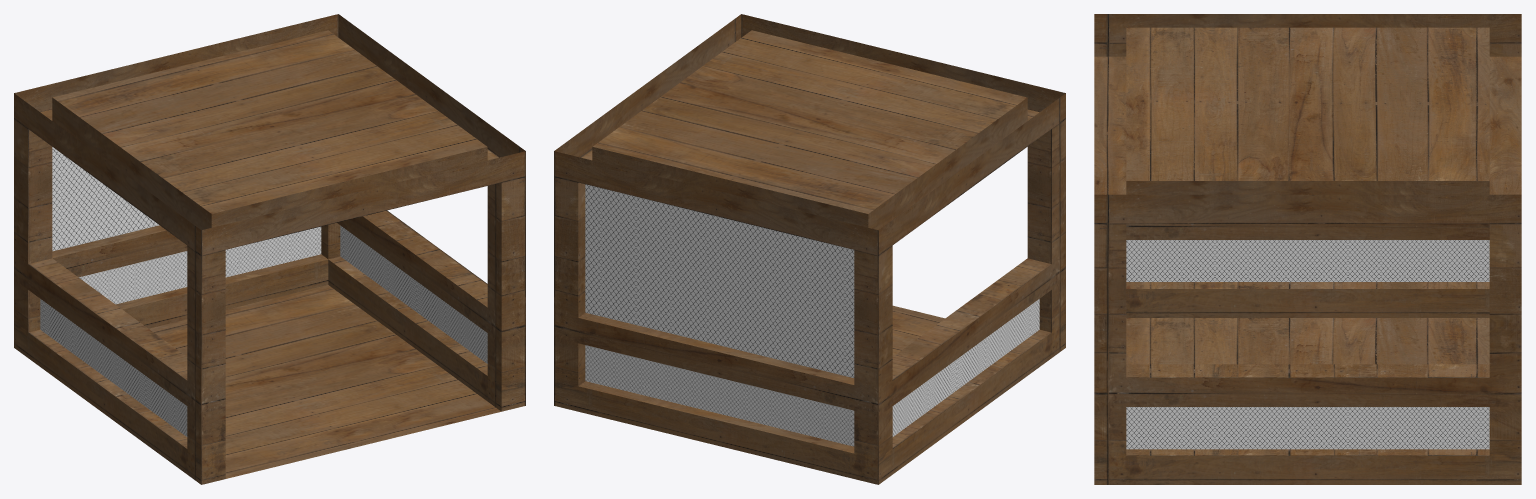
File: lift.fbx
The picture shows the model from 3 angles, left to right: view 1: azimuth 30°, elevation 25°; view 2: azimuth 150°, elevation 25°; view 3: azimuth 270°, elevation 25°; orthographic projection. The views are drawn at different scales.
Parts seen in each view (by area): view 1: LIFT; view 2: LIFT; view 3: LIFT.
Boxes of the visible parts, <box> form: LIFT: <box>14,14,525,484</box>; LIFT: <box>554,14,1065,484</box>; LIFT: <box>1094,14,1521,484</box>.
Bounding box in the file's own units: 4 × 3 × 4.
